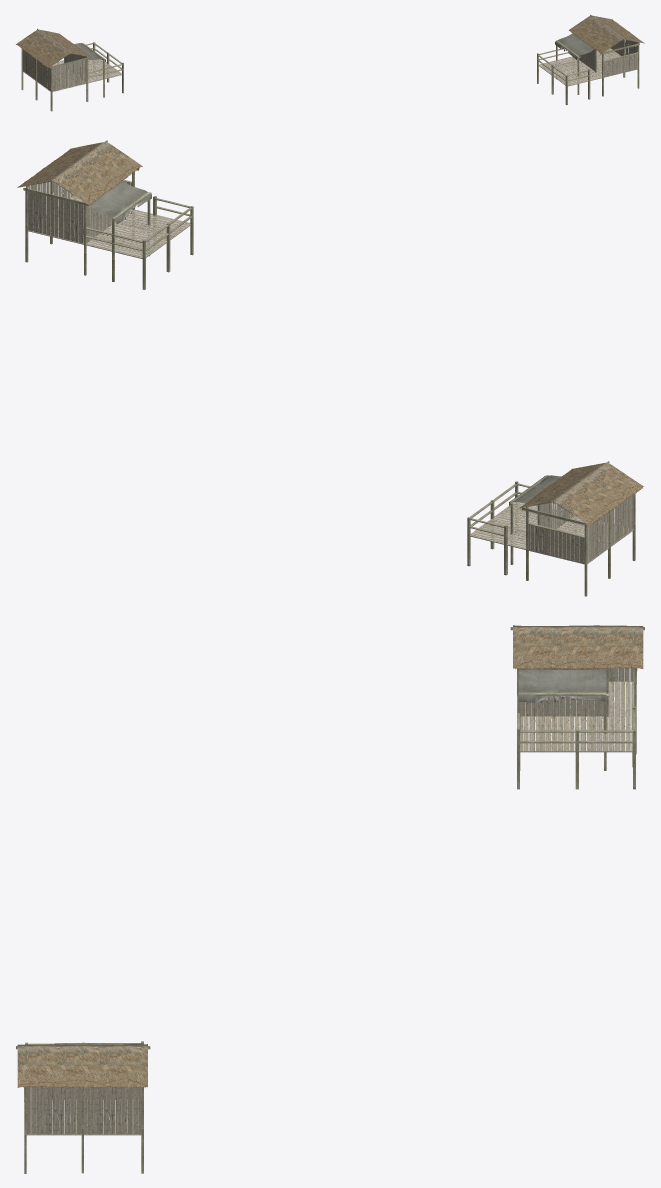
The model's file is coast-1-1.glb.
The picture shows the model from 3 angles, top to bottom: view 1: azimuth 30°, elevation 25°; view 2: azimuth 150°, elevation 25°; view 3: azimuth 270°, elevation 25°; orthographic projection. The views are drawn at different scales.
Parts seen in each view (by area): view 1: coast-1-1; view 2: coast-1-1; view 3: coast-1-1.
Boxes of the visible parts, x1,y1,x2,y2 form: coast-1-1: (16,14,644,111); coast-1-1: (17,140,643,596); coast-1-1: (16,625,644,1173).
Bounding box in the file's own units: 77.85 × 8.62 × 44.5.
8 materials, 8 textured.
